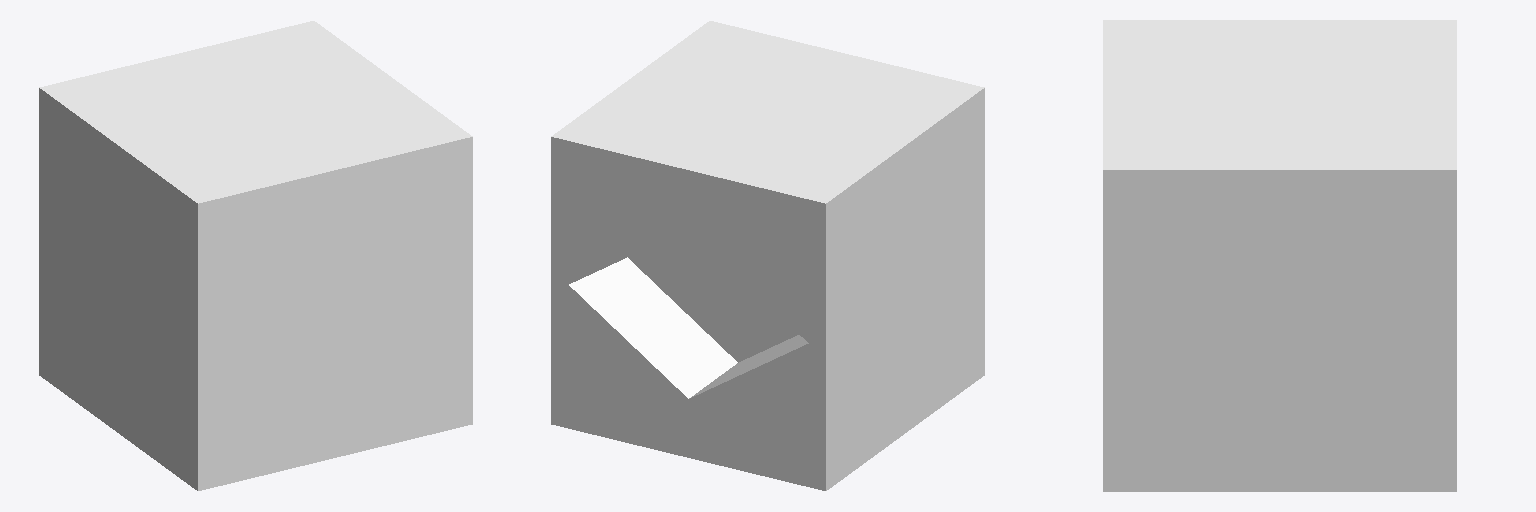
URDF robot description (Diamond_cube_bottle_preprocessed):
<?xml version="1.0" ?>
<robot name="Diamond_cube_bottle_preprocessed">
  <link name="baseLink">
    <contact>
    	<friction_anchor/>
    	   <lateral_friction value="1.0"/>
    </contact>
    <inertial>
      <origin rpy="0 0 0" xyz="0 0 0"/>
       <!-- mass controls penetration -->
       <mass value=".5"/>
       <inertia ixx="1e-4" ixy="0" ixz="0" iyy="1e-4" iyz="0" izz="1e-4"/>
    </inertial>
    <visual>
      <origin rpy="0 0 0" xyz="0 0 0"/>
      <geometry>
        <mesh filename="Diamond_cube_bottle_preprocessed.obj"/>
      </geometry>
       <material name="white">
        <color rgba="1 1 1 1"/>
      </material>
    </visual>
    <collision>
      <origin rpy="0 0 0" xyz="0 0 0"/>
      <geometry>
        <mesh filename="Diamond_cube_bottle_preprocessed.obj"/>
      </geometry>
    </collision>
  </link>
</robot>

--- What the picture shows (computed from the rendered views, not written in the file) ---
The picture shows the robot from 3 angles, left to right: view 1: azimuth 30°, elevation 25°; view 2: azimuth 150°, elevation 25°; view 3: azimuth 270°, elevation 25°; orthographic projection.
Robot: Diamond_cube_bottle_preprocessed — 1 links, 0 joints (none); root link baseLink; default pose: every joint at zero.
Visible links, largest first — view 1: baseLink; view 2: baseLink; view 3: baseLink.
Boxes of the visible links, bbox=[...] form: baseLink: bbox=[39, 21, 472, 490]; baseLink: bbox=[551, 21, 984, 490]; baseLink: bbox=[1103, 20, 1456, 491].
Bounding box of the posed robot: 0.08 × 0.08 × 0.08 m (x, y, z).
Meshes: 1 distinct files referenced, 1 mesh visuals loaded (1 OBJ).